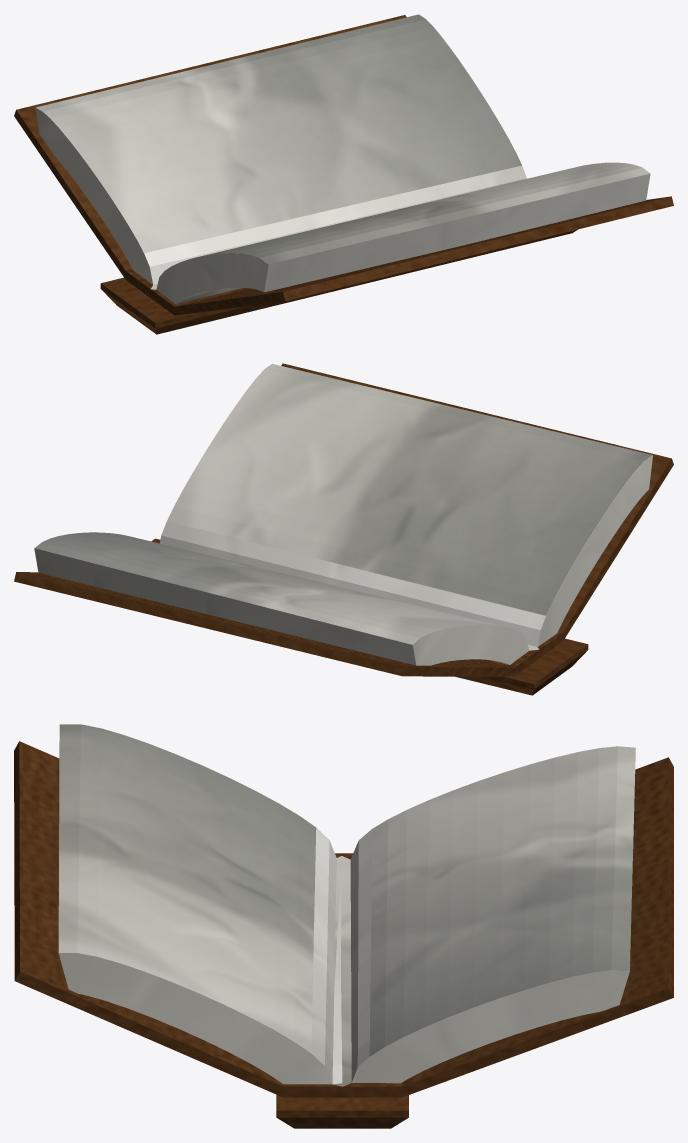
The model's file is grimoire.glb.
3 renders of one model, top to bottom at view 1: azimuth 30°, elevation 25°; view 2: azimuth 150°, elevation 25°; view 3: azimuth 270°, elevation 25°, orthographic. The views are drawn at different scales.
Parts seen in each view (by area): view 1: Pages, Book; view 2: Pages, Book; view 3: Pages, Book.
Boxes of the visible parts, x1,y1,x2,y2 form: Pages: (35,14,650,303); Book: (14,15,673,334); Pages: (34,364,652,665); Book: (14,363,673,695); Pages: (58,724,635,1086); Book: (14,741,673,1128).
Size of the model in its own units: 1.96 by 0.5922 by 2.12.
2 materials, 2 textured.
